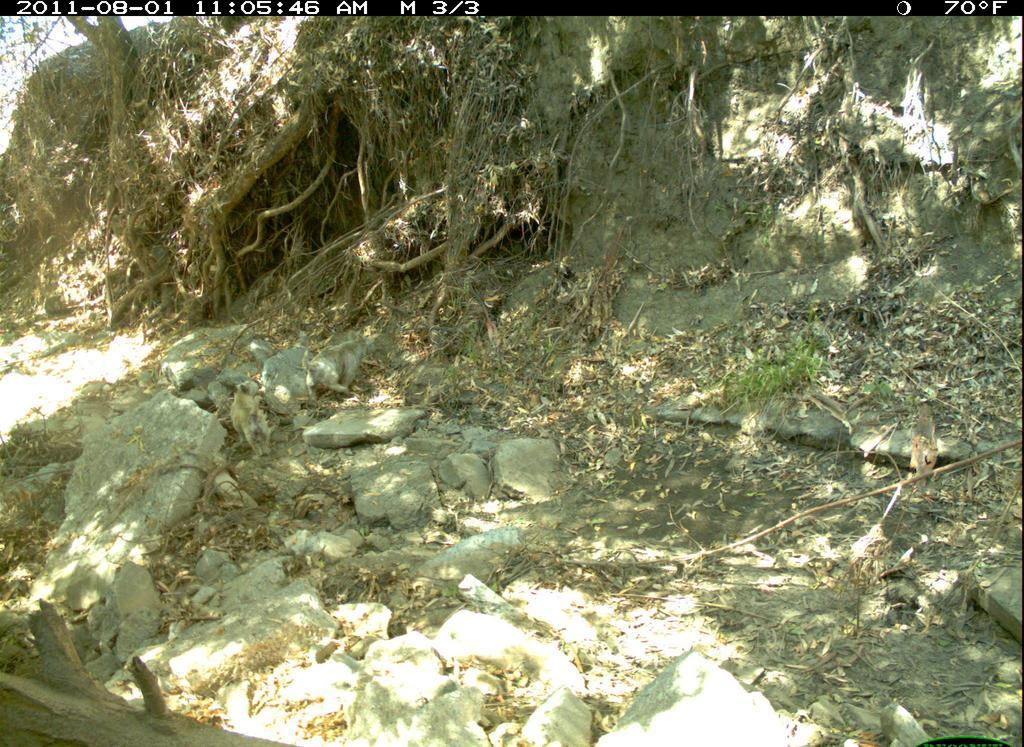dog: (226, 377, 295, 463)
